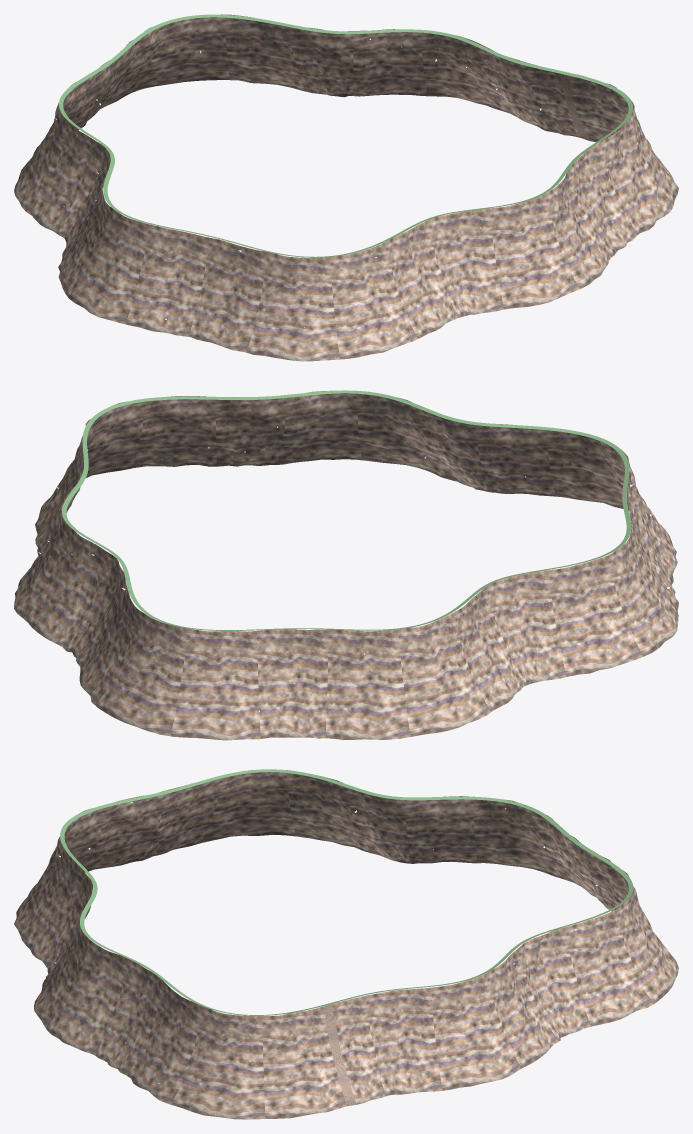
Rendered from CliffWall_plateau_B32.glb.
3 renders of one model, top to bottom at view 1: azimuth 30°, elevation 25°; view 2: azimuth 150°, elevation 25°; view 3: azimuth 270°, elevation 25°, orthographic. The views are drawn at different scales.
Parts seen in each view (by area): view 1: CliffWall_plateau_B32-rock0, CliffWall_plateau_B32-lip0; view 2: CliffWall_plateau_B32-rock0, CliffWall_plateau_B32-lip0; view 3: CliffWall_plateau_B32-rock0, CliffWall_plateau_B32-lip0.
Boxes of the visible parts, x1,y1,x2,y2 form: CliffWall_plateau_B32-rock0: (14,14,678,361); CliffWall_plateau_B32-lip0: (59,14,632,257); CliffWall_plateau_B32-rock0: (14,390,678,740); CliffWall_plateau_B32-lip0: (62,390,631,630); CliffWall_plateau_B32-rock0: (14,770,678,1119); CliffWall_plateau_B32-lip0: (60,769,633,1015).
Size of the model in its own units: 890 by 124 by 878.
Materials: 4 (1 with a texture image).
